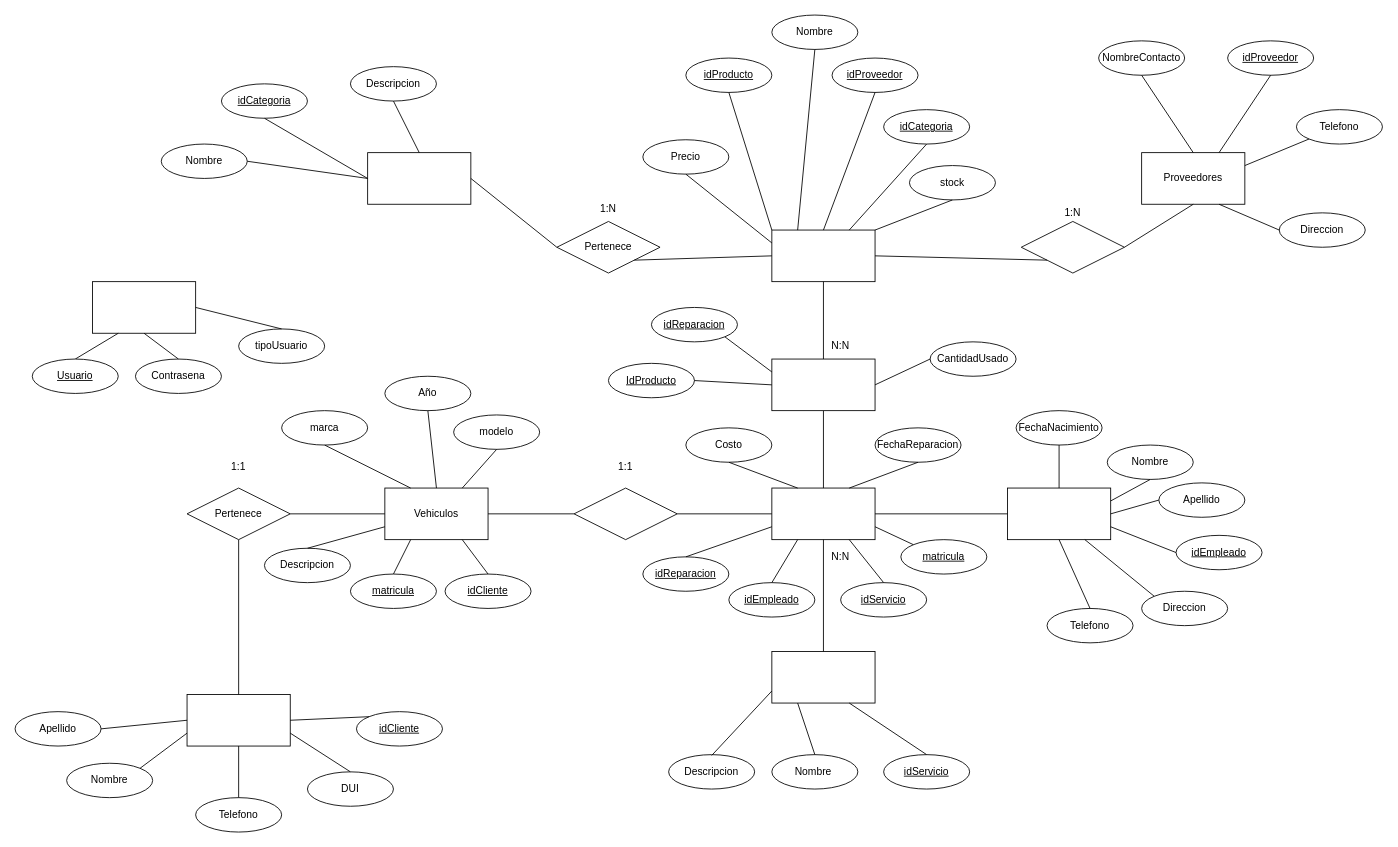
This 1398x847 diagram has some shape labels left out. Each missing label, with the box of its shape:
Categorias: (367, 152, 471, 204)
Clientes: (186, 694, 290, 746)
DetalleReparacion: (771, 358, 875, 411)
Empleados: (1007, 487, 1111, 540)
Productos: (771, 229, 875, 282)
Reparacion: (771, 487, 875, 540)
Servicios: (771, 651, 875, 703)
Suministra: (1020, 221, 1124, 273)
Tiene: (573, 487, 677, 540)
Usuarios: (92, 281, 196, 333)
